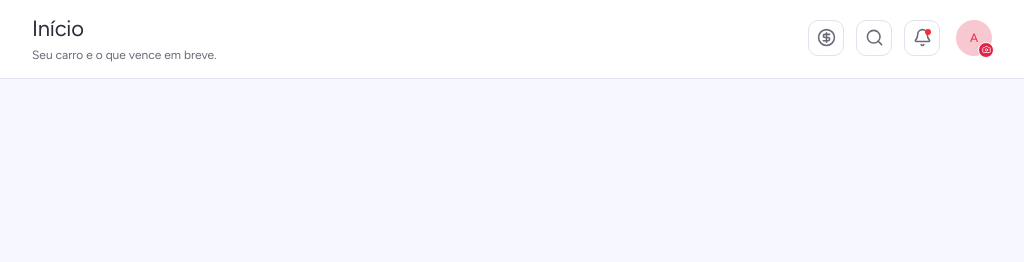
Header: sininho de atualizações (conta) › lista os vencimentos do resumo da conta
Click the button named "Atualizações: 1 aviso(s)": (922, 38) top-left (904, 20), bottom-right (940, 56)
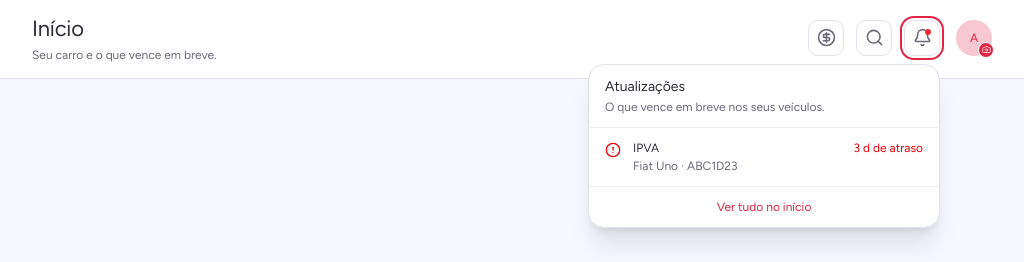
expect the text "IPVA" is shown: met, box top-left (633, 140), bottom-right (659, 154)
expect the text "Fiat Uno · ABC1D23" is shown: met, box top-left (633, 158), bottom-right (738, 172)
expect the text "3 d de atraso" is shown: met, box top-left (854, 140), bottom-right (923, 156)
